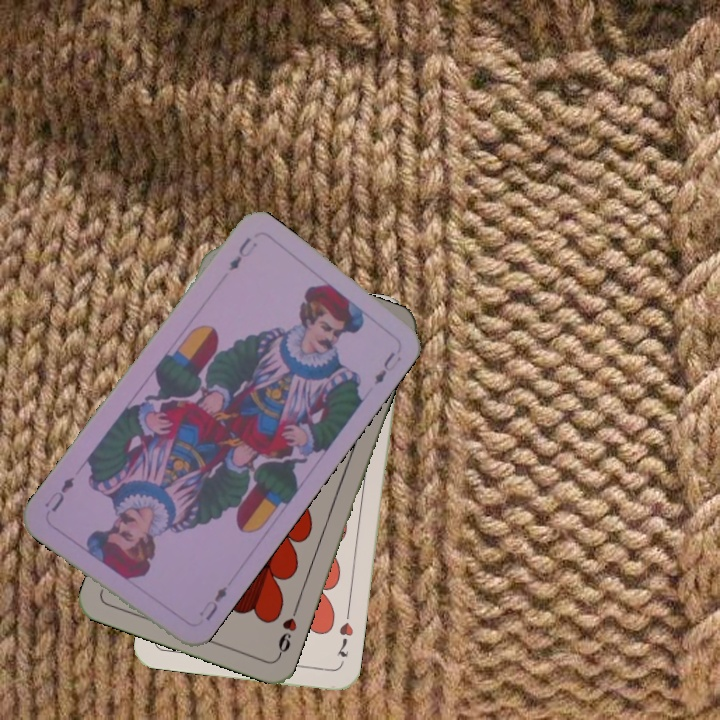EU: (198, 582, 231, 624), (225, 233, 256, 274)
H7: (333, 618, 356, 660)
H9: (274, 602, 301, 660)
